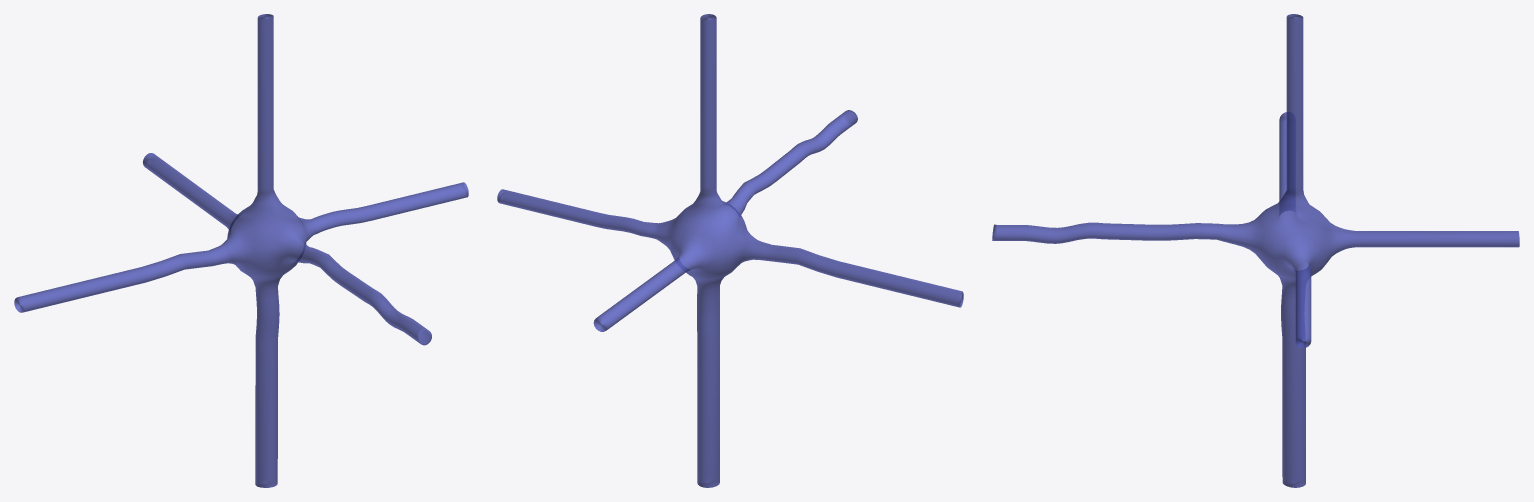
Rendered from CZ_StraightNeuron01.fbx.
3 views of the same model, side by side, from view 1: azimuth 30°, elevation 25°; view 2: azimuth 150°, elevation 25°; view 3: azimuth 270°, elevation 25° (orthographic).
Visible parts, largest first — view 1: CZ_SingleNeuron02; view 2: CZ_SingleNeuron02; view 3: CZ_SingleNeuron02.
Boxes of the visible parts, box(x1,y1,x2,y2) form: CZ_SingleNeuron02: box(14, 14, 468, 487); CZ_SingleNeuron02: box(497, 14, 963, 487); CZ_SingleNeuron02: box(992, 14, 1519, 487).
Size of the model in its own units: 2.81 by 2.76 by 2.83.
